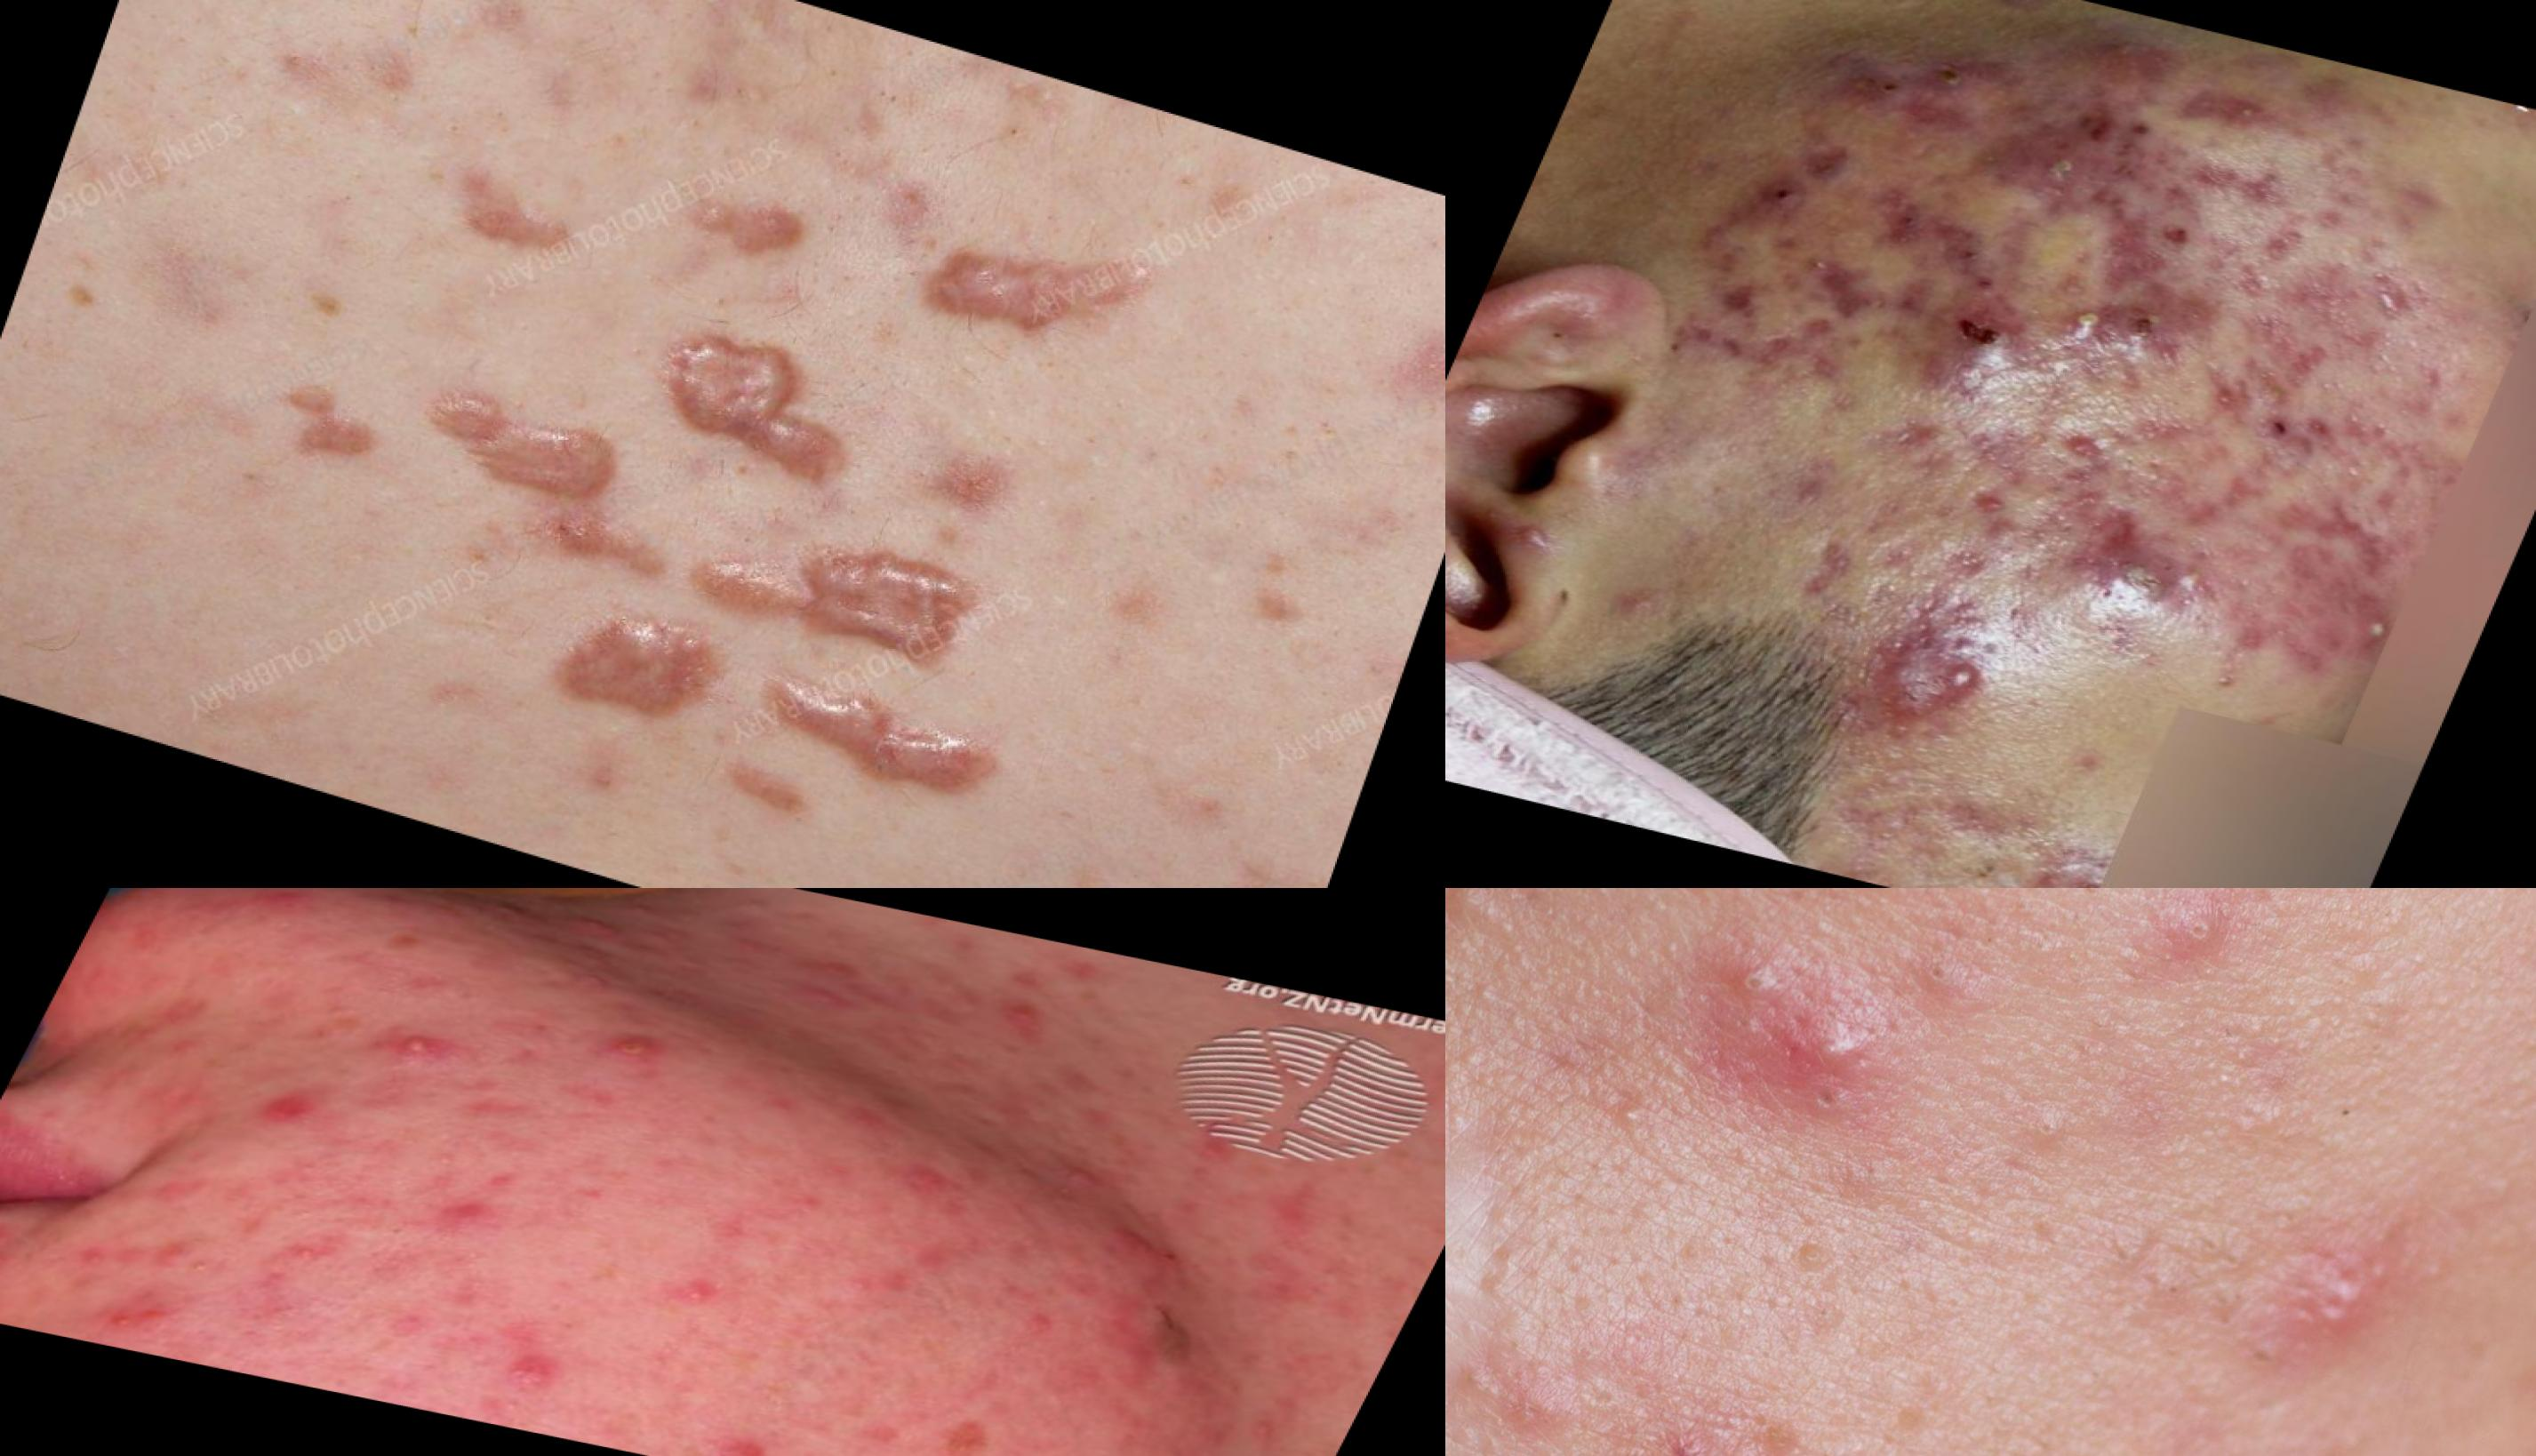acne_scars: (2247, 467, 2438, 573), (1763, 522, 1885, 622), (2139, 66, 2273, 148), (1782, 235, 1902, 326), (2184, 143, 2304, 212), (1642, 317, 1771, 378), (1683, 261, 1777, 326), (2189, 371, 2268, 425)
blackhead: (1946, 829, 2017, 886)
keloid: (678, 491, 998, 688), (899, 192, 1190, 390), (639, 317, 885, 500), (737, 655, 1014, 817), (409, 373, 634, 517), (542, 589, 733, 752)
papular: (1693, 935, 1956, 1174), (2256, 1219, 2421, 1365), (1557, 1386, 1797, 1456), (54, 1219, 207, 1294), (94, 1277, 226, 1358), (404, 1167, 523, 1244), (465, 1327, 577, 1402), (965, 977, 1080, 1048), (226, 1076, 338, 1144), (1446, 1035, 1487, 1203), (995, 1299, 1082, 1350), (550, 906, 632, 954), (887, 1163, 967, 1209), (2, 1230, 35, 1291)
purulent: (354, 1000, 491, 1087), (2299, 576, 2426, 667), (1914, 637, 2001, 719), (580, 1019, 676, 1075), (655, 1268, 742, 1318), (714, 1430, 780, 1456)
sebo-crystan-conglo: (1845, 540, 1982, 744), (2040, 481, 2221, 630), (1810, 2, 2019, 125), (1879, 279, 2043, 408), (1961, 91, 2144, 206), (2036, 266, 2219, 380)
whitehead: (2109, 888, 2287, 1021), (1454, 1336, 1602, 1456), (1756, 1196, 1874, 1329), (1446, 888, 1566, 961)
